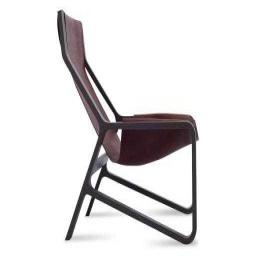Chair: (53, 12, 199, 246)
